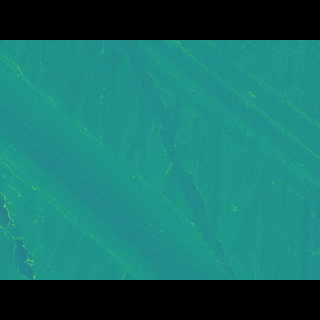Loch: (0, 77, 237, 250), (127, 68, 320, 190)
